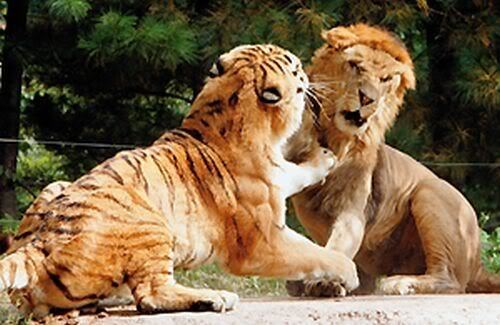lion: (290, 17, 497, 296)
tiger: (7, 41, 323, 318)
